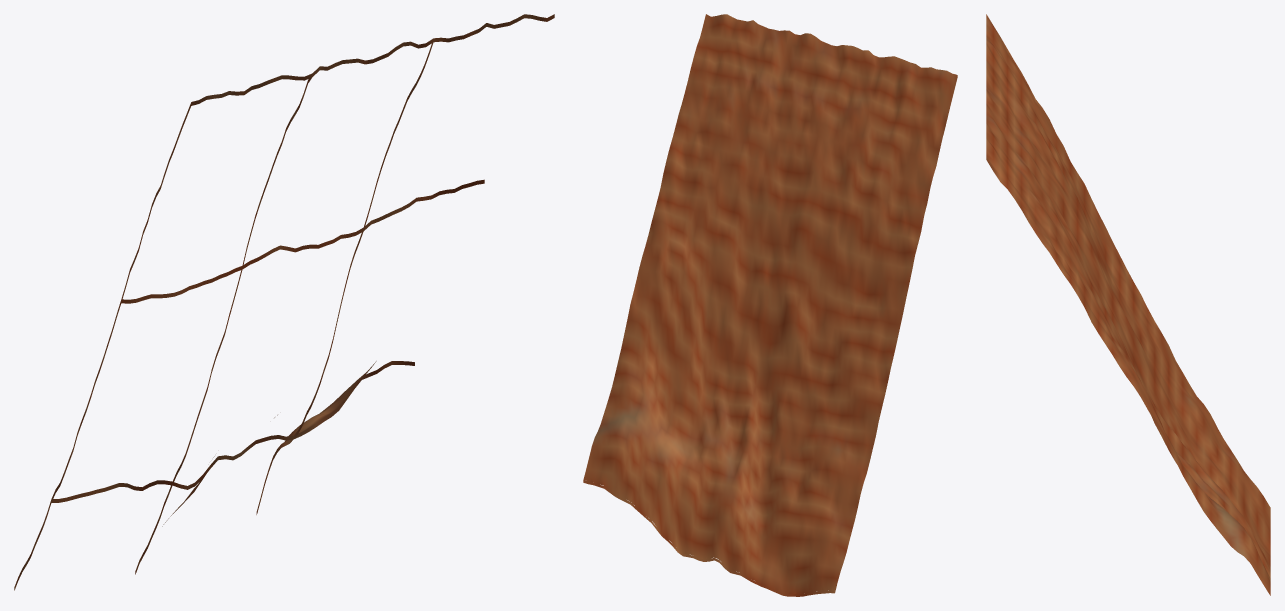
Rendered from terrain-148.glb.
3 renders of one model, left to right at view 1: azimuth 30°, elevation 25°; view 2: azimuth 150°, elevation 25°; view 3: azimuth 270°, elevation 25°, orthographic. The views are drawn at different scales.
Visible parts, largest first — view 1: terrain-148; view 2: terrain-148; view 3: terrain-148.
Part boxes in pixels (box(x1,y1,x2,y2)): terrain-148: box(14, 14, 554, 590); terrain-148: box(583, 14, 957, 596); terrain-148: box(986, 14, 1270, 595).
Size of the model in its own units: 384 by 655 by 324.
